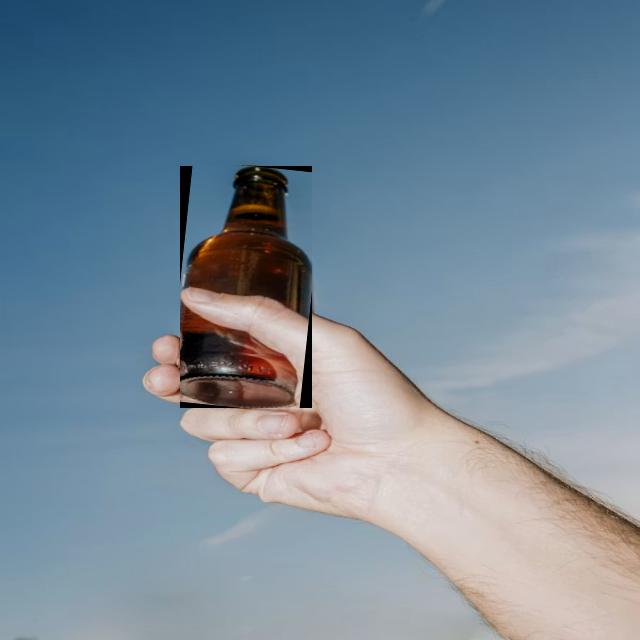Bottle: (184, 166, 311, 310)
